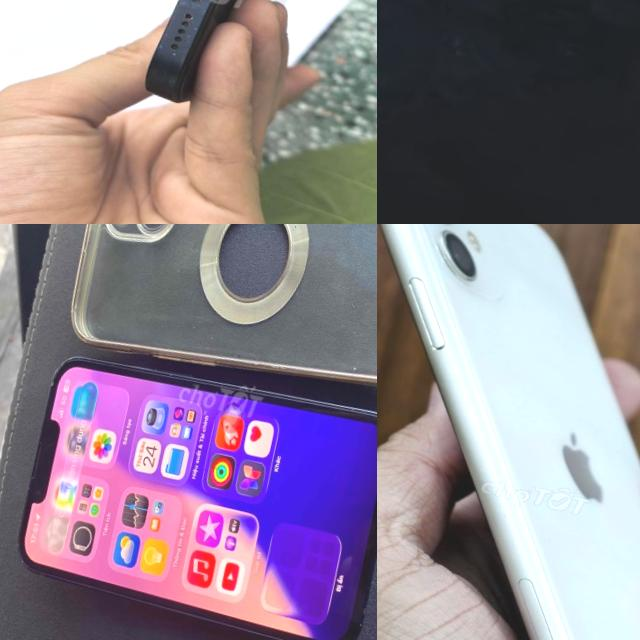gen_11: (377, 224, 640, 640)
gen_12_13: (0, 329, 377, 640), (377, 0, 640, 224), (119, 0, 323, 140)
